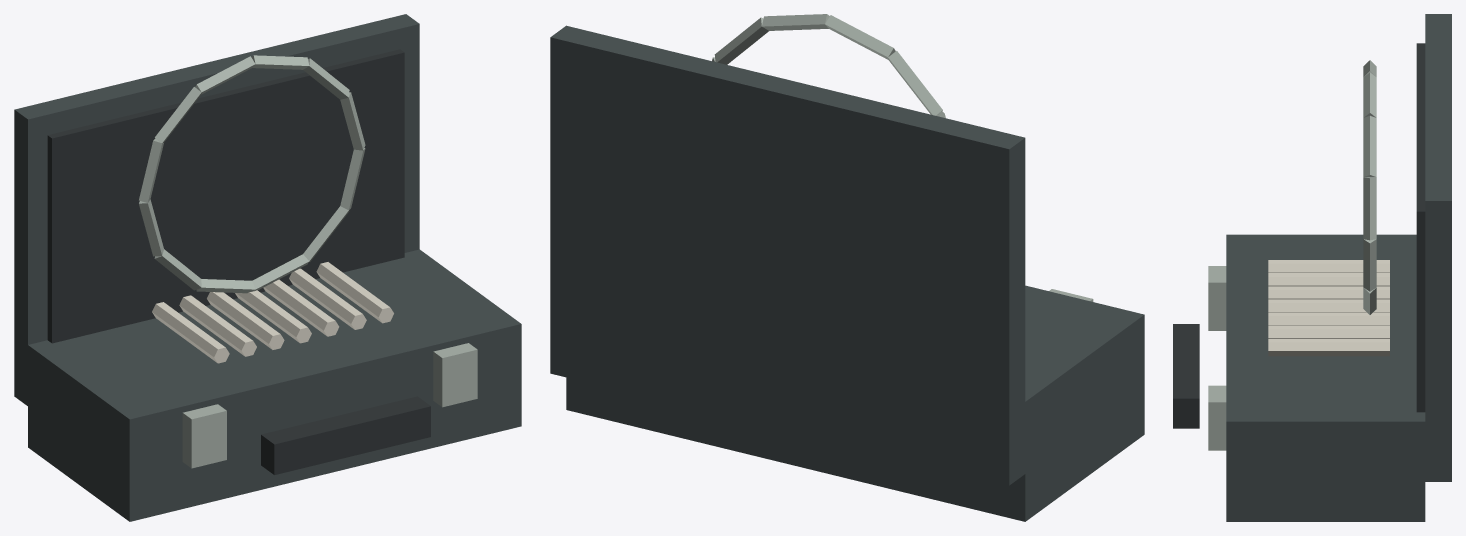
Rendered from blender_chalk_sigil_kit_3.glb.
The picture shows the model from 3 angles, left to right: view 1: azimuth 30°, elevation 25°; view 2: azimuth 150°, elevation 25°; view 3: azimuth 270°, elevation 25°; orthographic projection. The views are drawn at different scales.
Parts seen in each view (by area): view 1: blender_chalk_sigil_kit_3; view 2: blender_chalk_sigil_kit_3; view 3: blender_chalk_sigil_kit_3.
Part boxes in pixels (bbox=[...]): blender_chalk_sigil_kit_3: bbox=[14, 14, 521, 521]; blender_chalk_sigil_kit_3: bbox=[550, 14, 1144, 521]; blender_chalk_sigil_kit_3: bbox=[1173, 14, 1451, 521].
Bounding box in the file's own units: 0.2 × 0.1779 × 0.126.
1 material, 1 textured.
